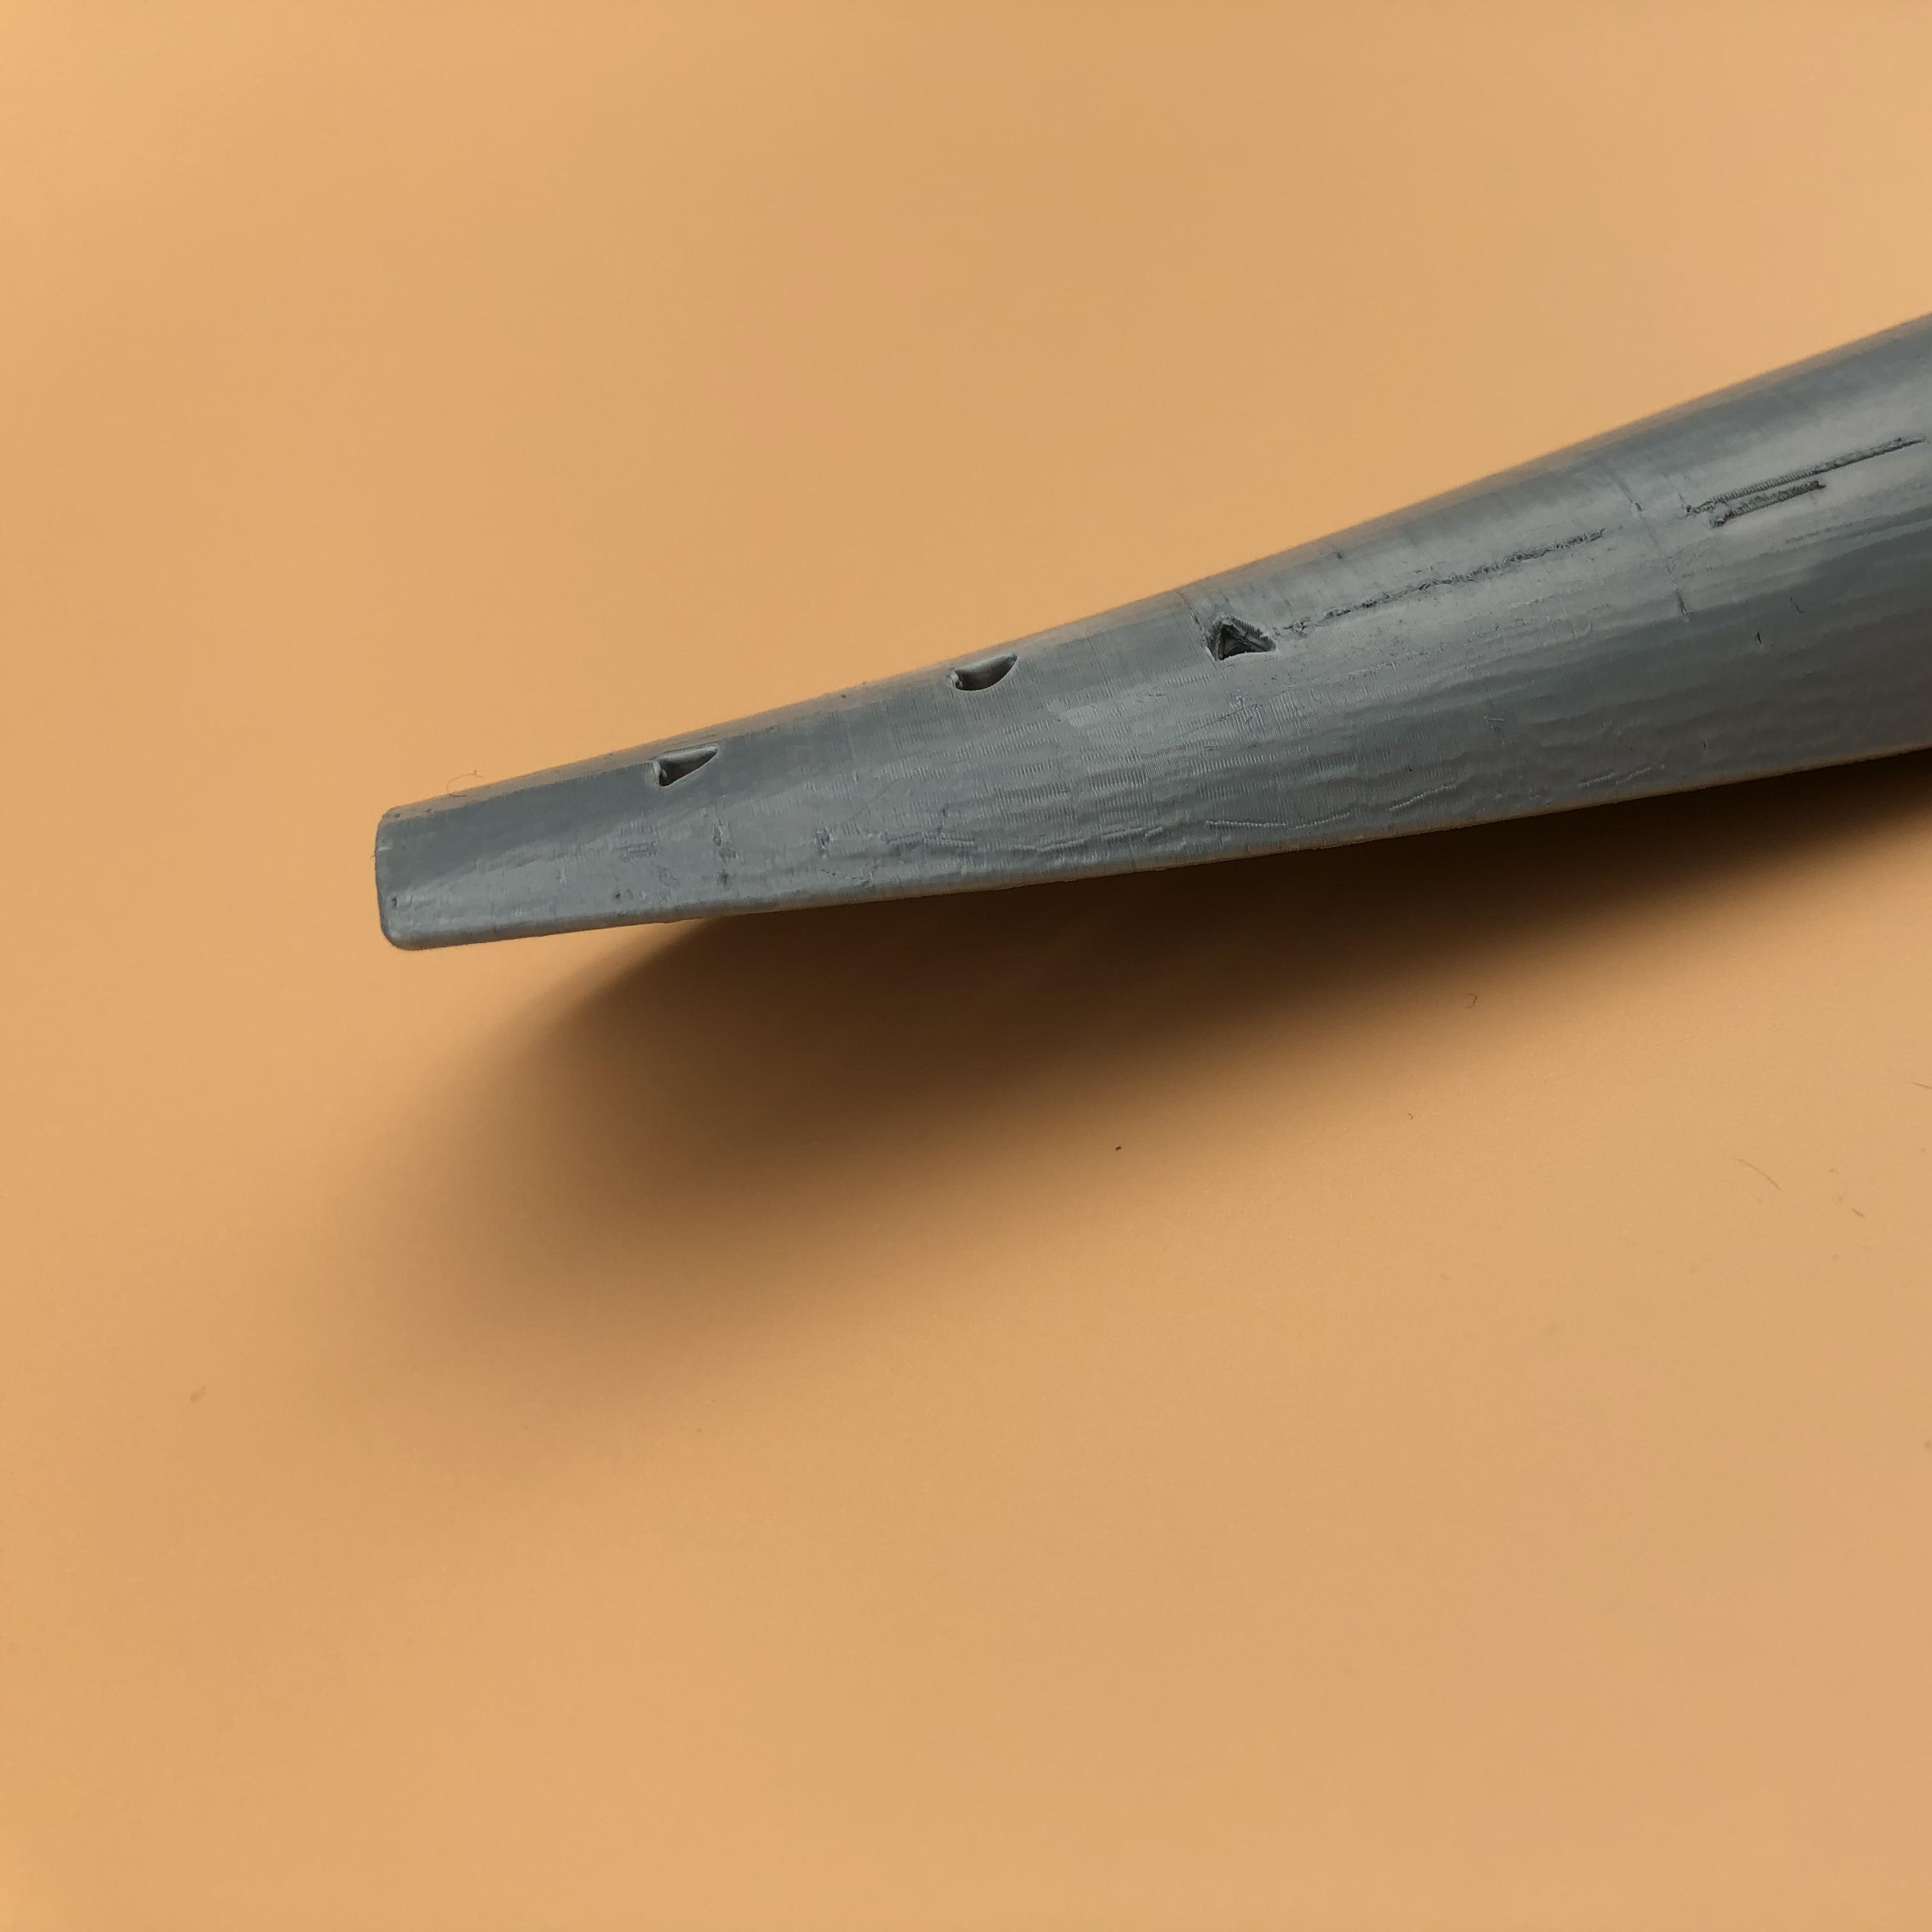breakdown: (1205, 602, 1293, 672), (948, 644, 1037, 701), (630, 745, 725, 793)
